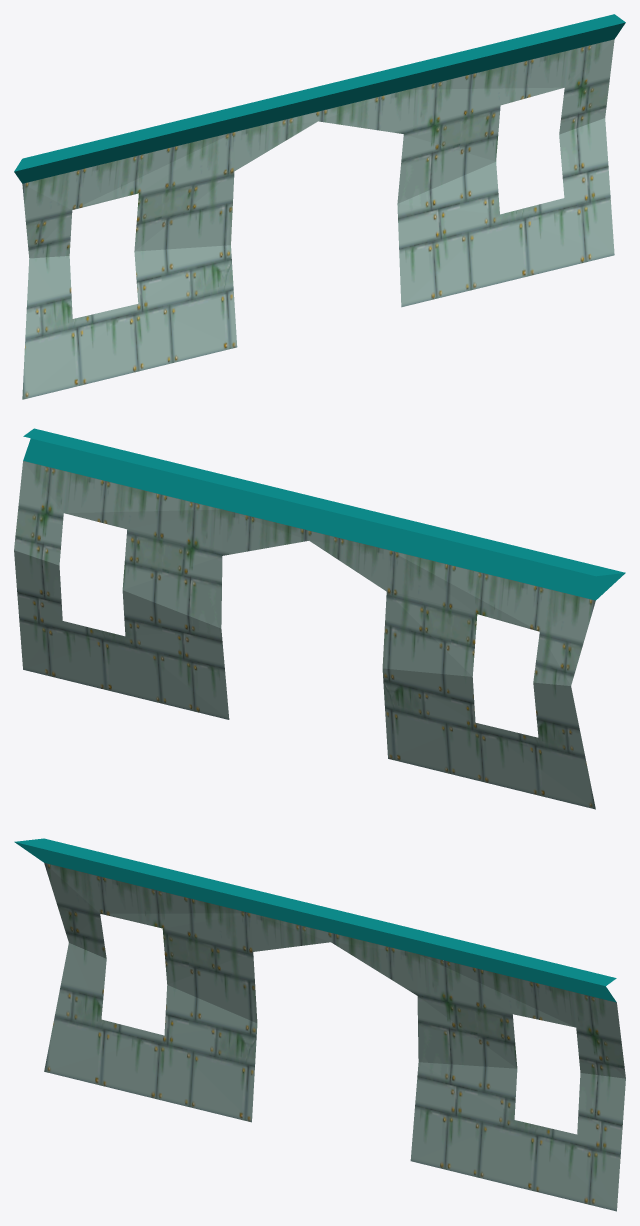
Rendered from W_A2l_fOf [Türkis)_2739.glb.
The picture shows the model from 3 angles, top to bottom: view 1: azimuth 30°, elevation 25°; view 2: azimuth 150°, elevation 25°; view 3: azimuth 330°, elevation 25°; orthographic projection. The views are drawn at different scales.
Visible parts, largest first — view 1: polySurfaceShape766, polySurfaceShape1055; view 2: polySurfaceShape766, polySurfaceShape1055; view 3: polySurfaceShape766, polySurfaceShape1055.
Part boxes in pixels (bbox=[...]): polySurfaceShape766: bbox=[22, 39, 614, 399]; polySurfaceShape1055: bbox=[14, 14, 625, 183]; polySurfaceShape766: bbox=[14, 461, 595, 809]; polySurfaceShape1055: bbox=[23, 428, 625, 600]; polySurfaceShape766: bbox=[44, 863, 625, 1211]; polySurfaceShape1055: bbox=[14, 838, 616, 1002].
Size of the model in its own units: 1.03 by 0.3891 by 0.0607.
2 materials, 1 textured.
